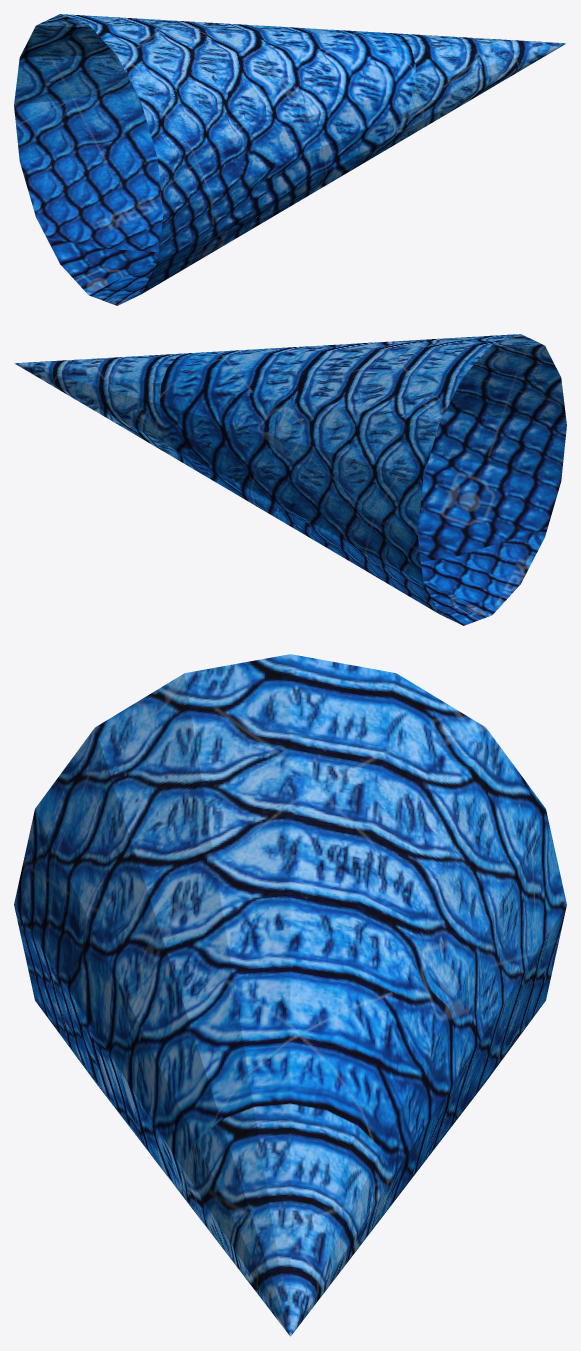
Rendered from SnakeBodyPartTailLeft.obj.
3 renders of one model, top to bottom at view 1: azimuth 30°, elevation 25°; view 2: azimuth 150°, elevation 25°; view 3: azimuth 270°, elevation 25°, orthographic. The views are drawn at different scales.
Visible parts, largest first — view 1: Cone; view 2: Cone; view 3: Cone.
Part boxes in pixels (bbox=[...]): Cone: bbox=[14, 14, 566, 305]; Cone: bbox=[14, 334, 566, 625]; Cone: bbox=[14, 654, 566, 1336].
Size of the model in its own units: 1.2 by 0.65 by 0.65.
1 material, 1 textured.
